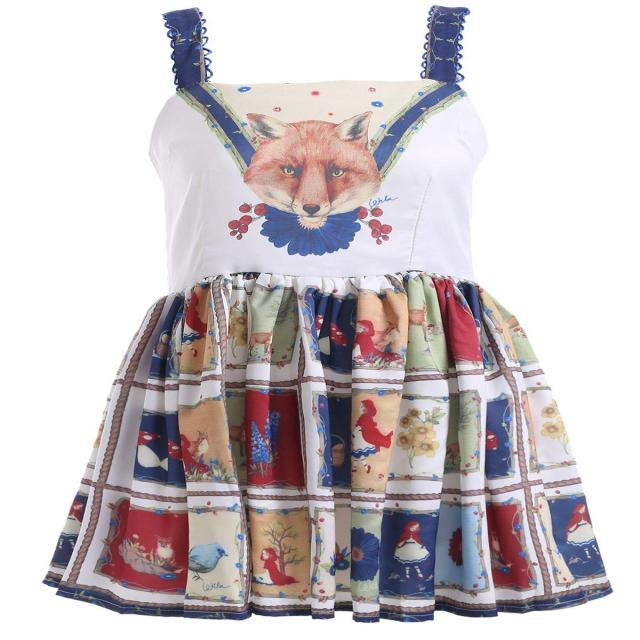Dress: (61, 6, 615, 622)
